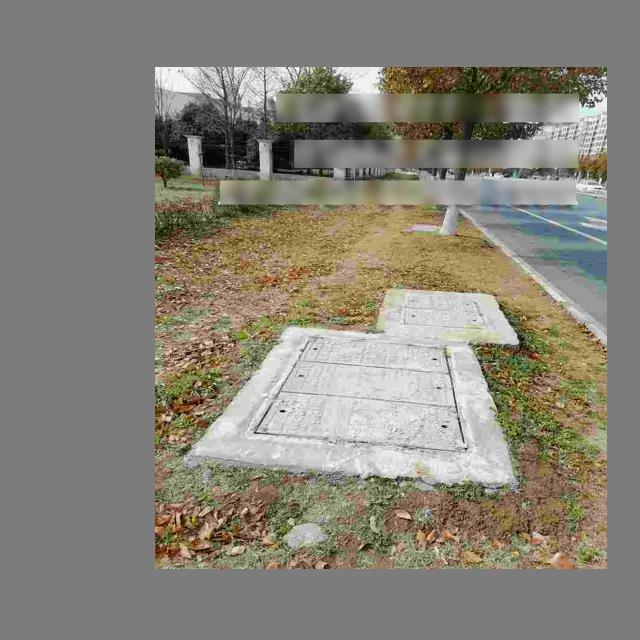good: (243, 334, 473, 453), (398, 289, 496, 331)
